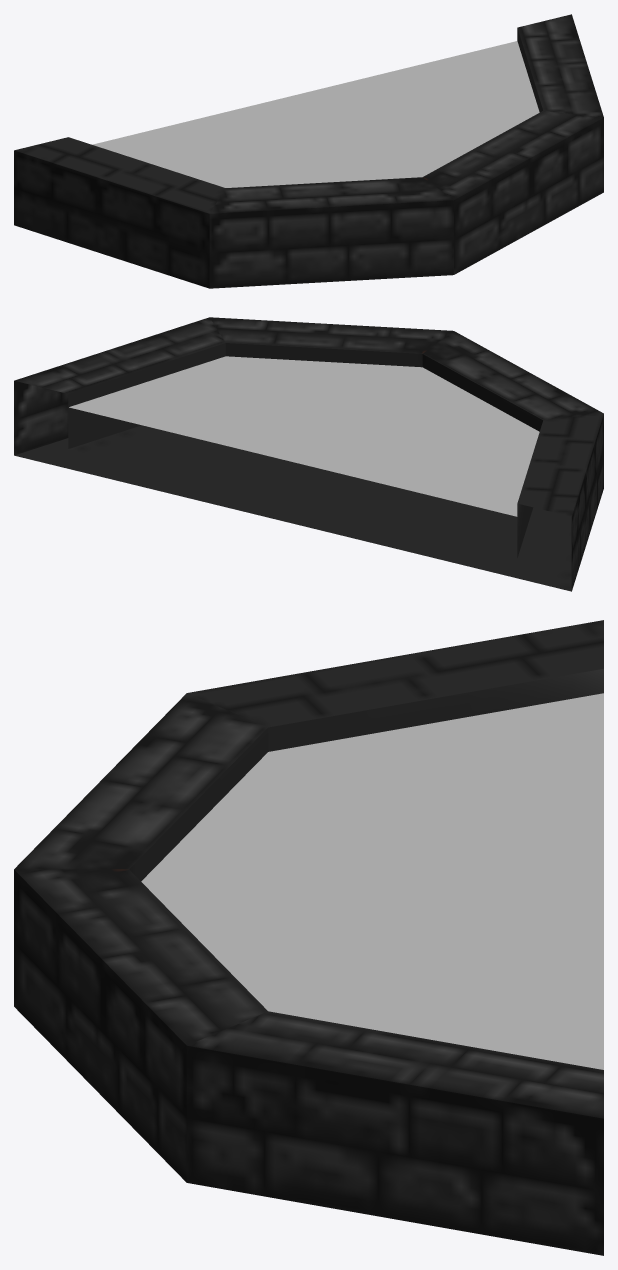
Rendered from LavaPool.fbx.
The picture shows the model from 3 angles, top to bottom: view 1: azimuth 30°, elevation 25°; view 2: azimuth 150°, elevation 25°; view 3: azimuth 270°, elevation 25°; orthographic projection. The views are drawn at different scales.
Parts seen in each view (by area): view 1: pool, lava; view 2: pool, lava; view 3: pool, lava.
Boxes of the visible parts, left/top/right/bottom form: pool: left=14, top=14, right=603, bottom=288; lava: left=92, top=41, right=539, bottom=187; pool: left=14, top=317, right=603, bottom=591; lava: left=69, top=356, right=539, bottom=516; pool: left=14, top=620, right=603, bottom=1255; lava: left=141, top=693, right=603, bottom=1069.
Size of the model in its own units: 396 by 50.84 by 198.
Materials: 2 (1 with a texture image).
